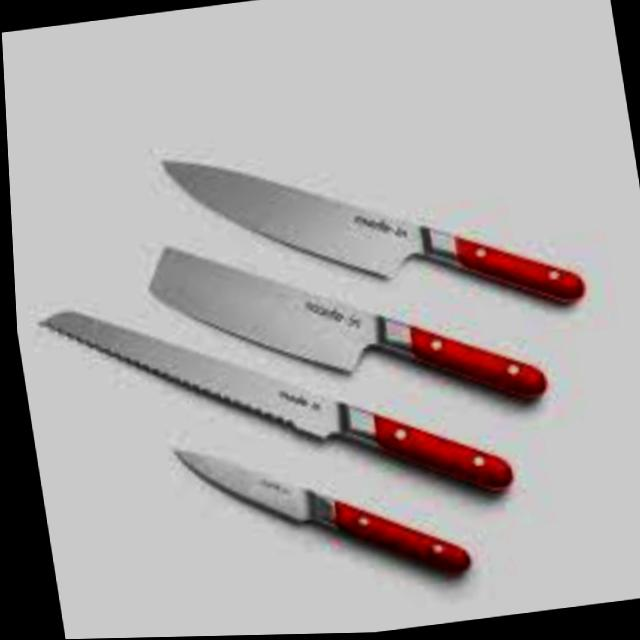Knife: (28, 256, 510, 548), (153, 108, 585, 353), (134, 201, 543, 447), (164, 413, 465, 608)
